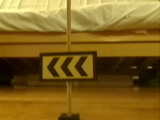left: (41, 55, 96, 80)
